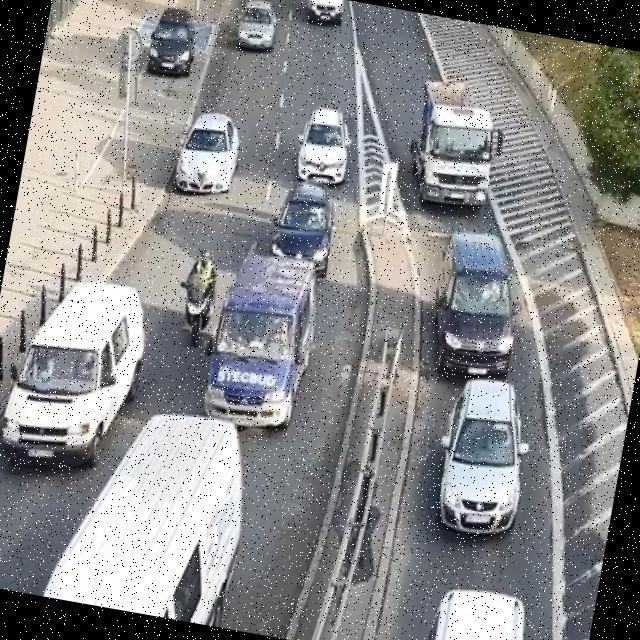car: (440, 380, 529, 533), (272, 182, 332, 274), (175, 112, 240, 192), (436, 590, 524, 640), (298, 108, 350, 183), (148, 9, 195, 74), (238, 0, 276, 49)
lorry: (411, 82, 501, 204)
minivan: (45, 415, 241, 623), (2, 282, 145, 463), (205, 251, 315, 426), (438, 232, 514, 374)
motorcyclist: (181, 251, 216, 344)
